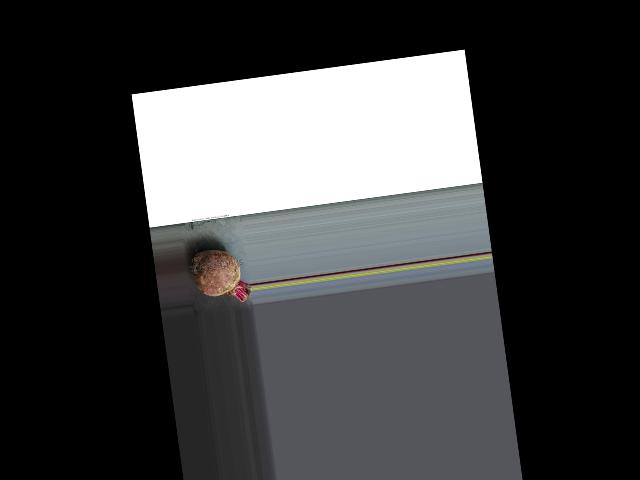beet: (189, 245, 252, 307)
